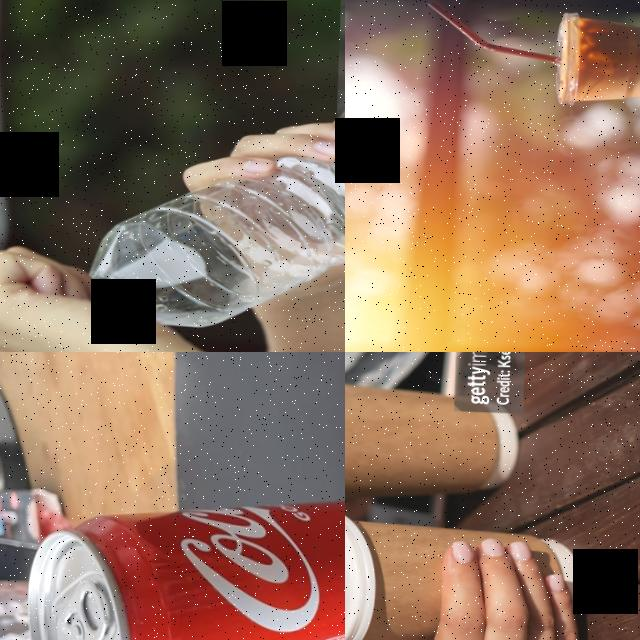bottle: (82, 78, 345, 338)
can: (27, 474, 345, 640)
cup: (345, 504, 584, 640), (345, 367, 523, 516), (552, 12, 640, 112)
